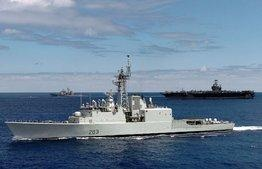warship: (4, 51, 236, 140)
